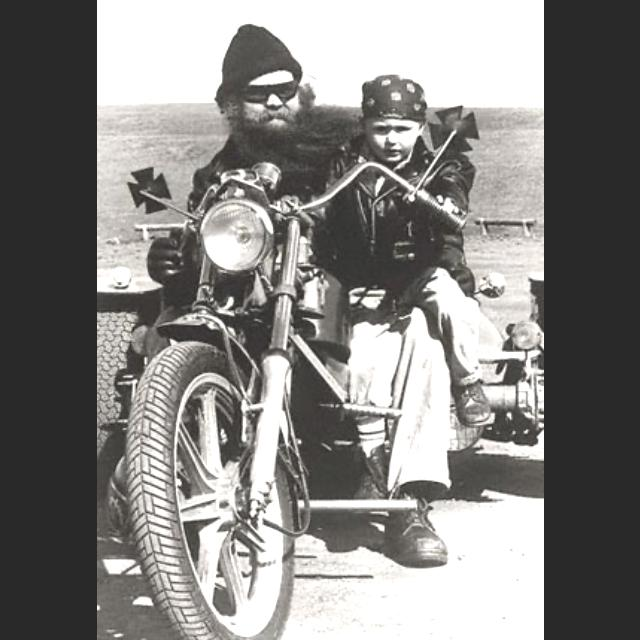Without Helmet: (213, 18, 311, 144), (355, 70, 421, 162)
